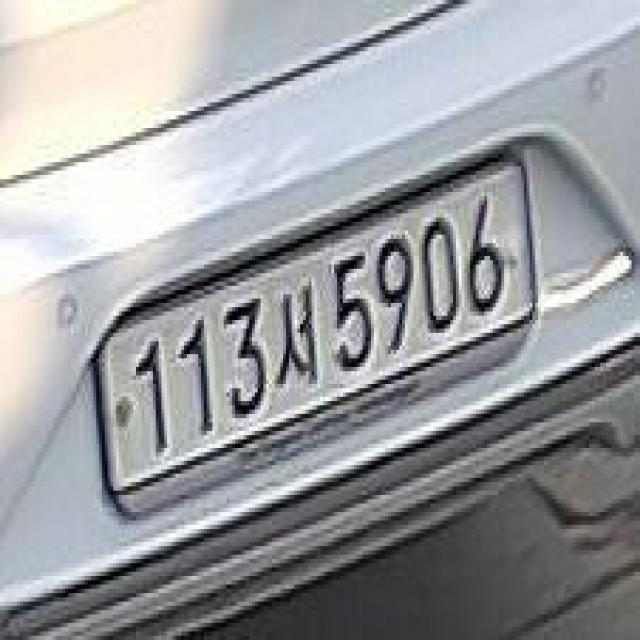illegal_plate: (92, 153, 544, 522)
